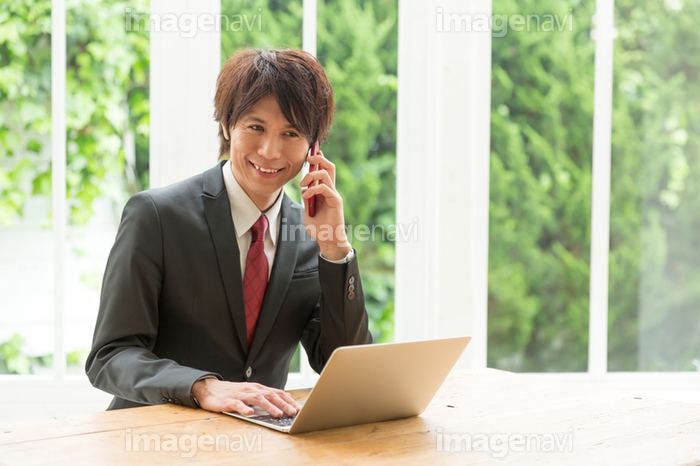phone: (301, 129, 338, 219)
talk: (236, 113, 347, 245)
